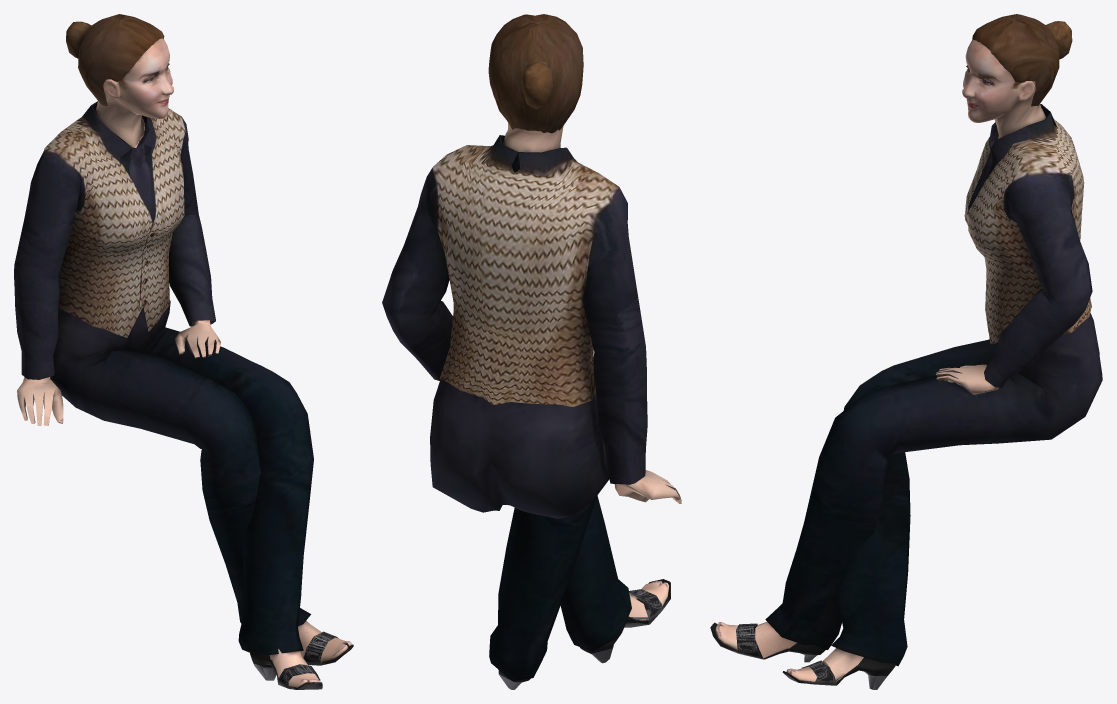
The model's file is SWT01_10_02.fbx.
The picture shows the model from 3 angles, left to right: view 1: azimuth 30°, elevation 25°; view 2: azimuth 150°, elevation 25°; view 3: azimuth 270°, elevation 25°; orthographic projection. The views are drawn at different scales.
Visible parts, largest first — view 1: WAIT01_10_02; view 2: WAIT01_10_02; view 3: WAIT01_10_02.
Boxes of the visible parts, x1,y1,x2,y2 form: WAIT01_10_02: (14, 14, 353, 689); WAIT01_10_02: (382, 14, 681, 689); WAIT01_10_02: (710, 14, 1102, 689).
Size of the model in its own units: 22.84 by 56.66 by 32.16.
